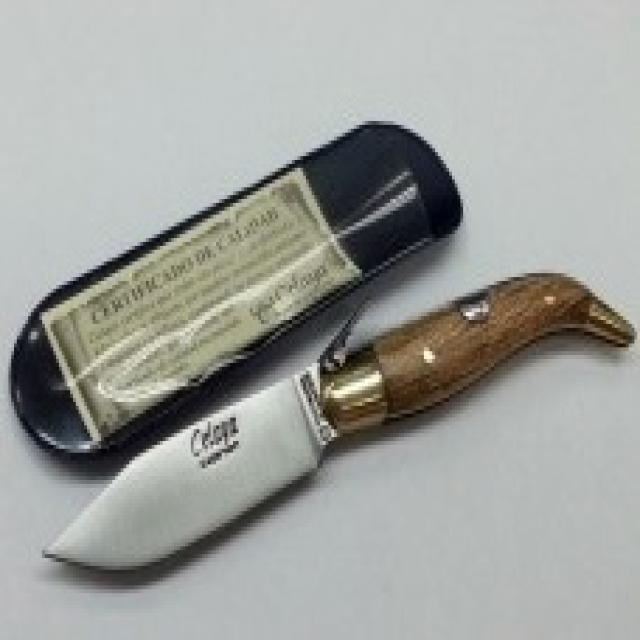knife: (33, 262, 637, 582)
